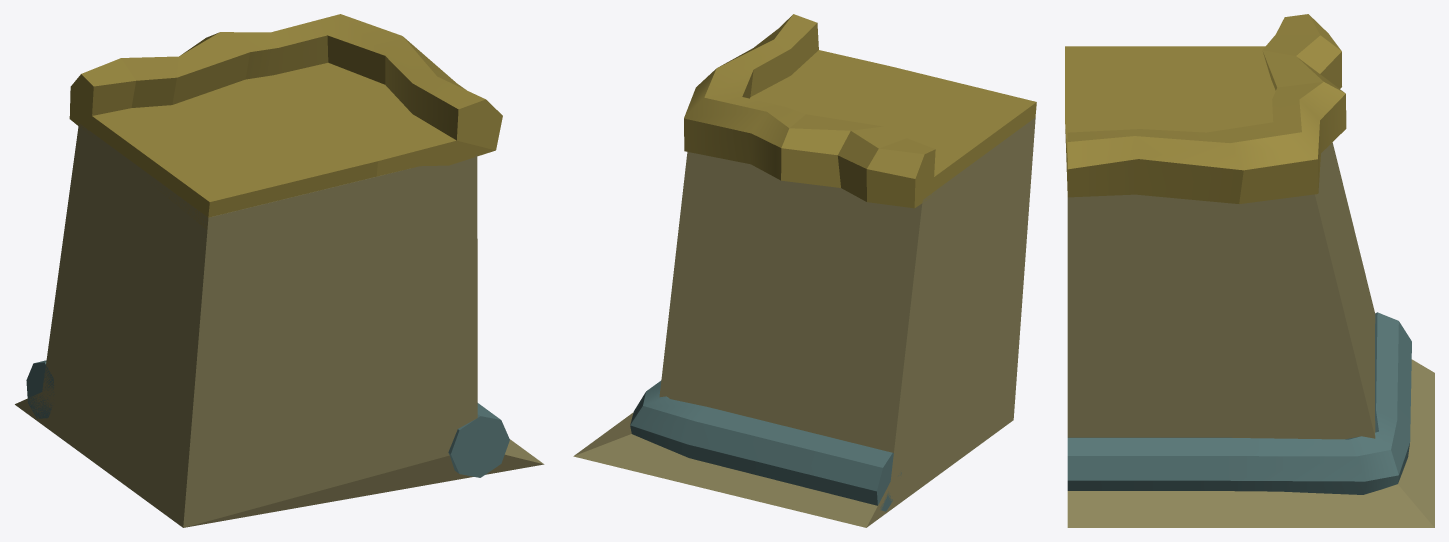
File: Int_4_Wall_Hor_Mid_End_Left.fbx
3 views of the same model, side by side, from view 1: azimuth 30°, elevation 25°; view 2: azimuth 150°, elevation 25°; view 3: azimuth 270°, elevation 25° (orthographic). The views are drawn at different scales.
Visible parts, largest first — view 1: Int_4_Wall_Hor_Mid_End_Left1; view 2: Int_4_Wall_Hor_Mid_End_Left1; view 3: Int_4_Wall_Hor_Mid_End_Left1.
Part boxes in pixels (x1,y1,x2,y2): Int_4_Wall_Hor_Mid_End_Left1: (15, 14, 544, 527); Int_4_Wall_Hor_Mid_End_Left1: (573, 14, 1036, 527); Int_4_Wall_Hor_Mid_End_Left1: (1065, 14, 1434, 527).
Bounding box in the file's own units: 1 × 1.08 × 1.01.
